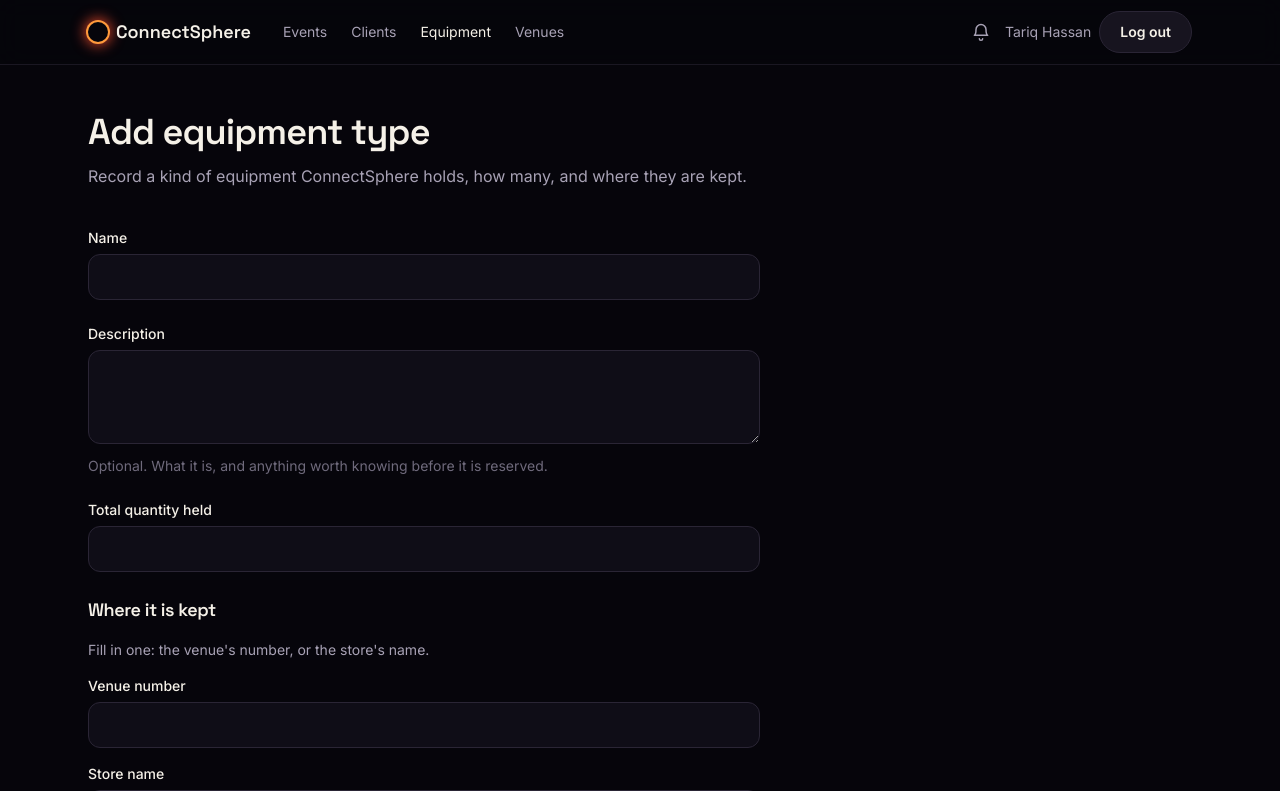
Test: SCRUM-27 adding an equipment type › shows the button as busy while the backend saves
In the field labelled "Name": (424, 277) top-left (88, 254), bottom-right (760, 300), type "Folding table"
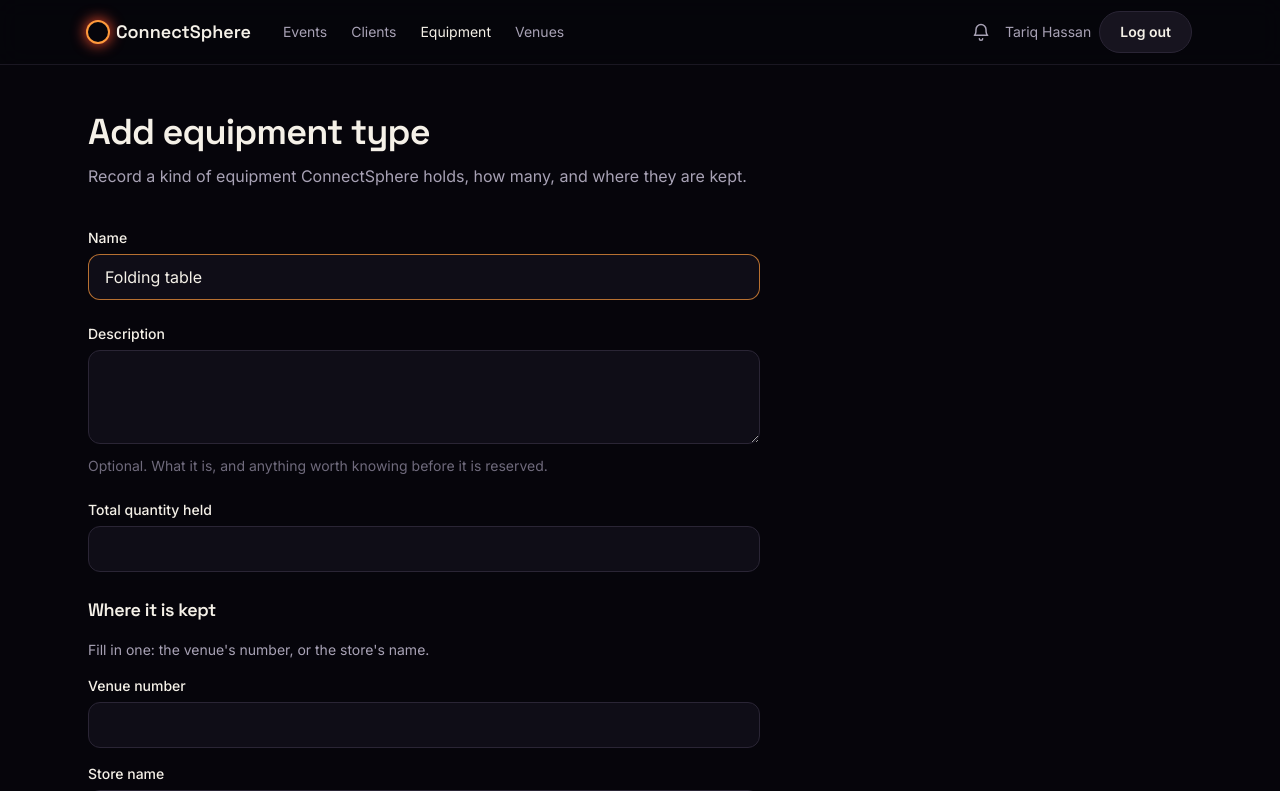
In the number field labelled "Total quantity held": (424, 549) top-left (88, 526), bottom-right (760, 572), type "2"
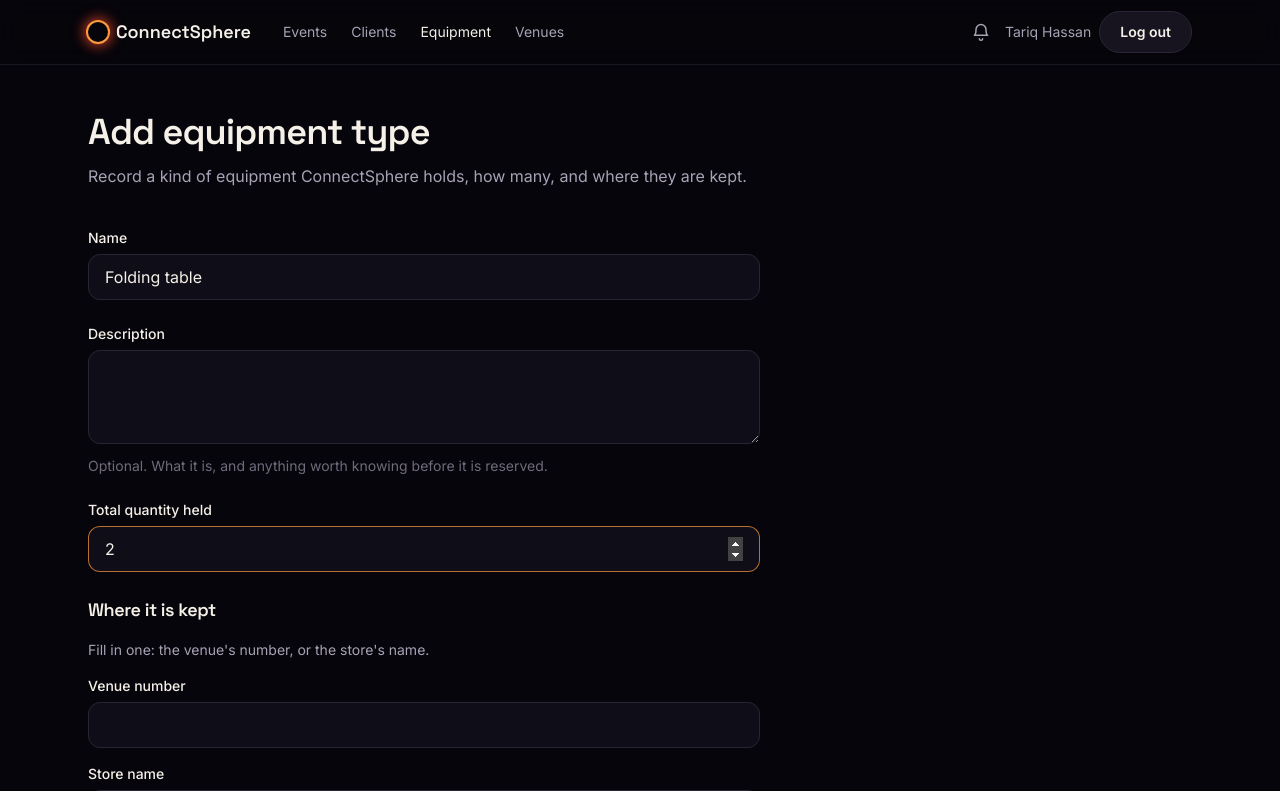
In the number field labelled "Venue number": (424, 725) top-left (88, 702), bottom-right (760, 748), type "1"
(page scrolled)
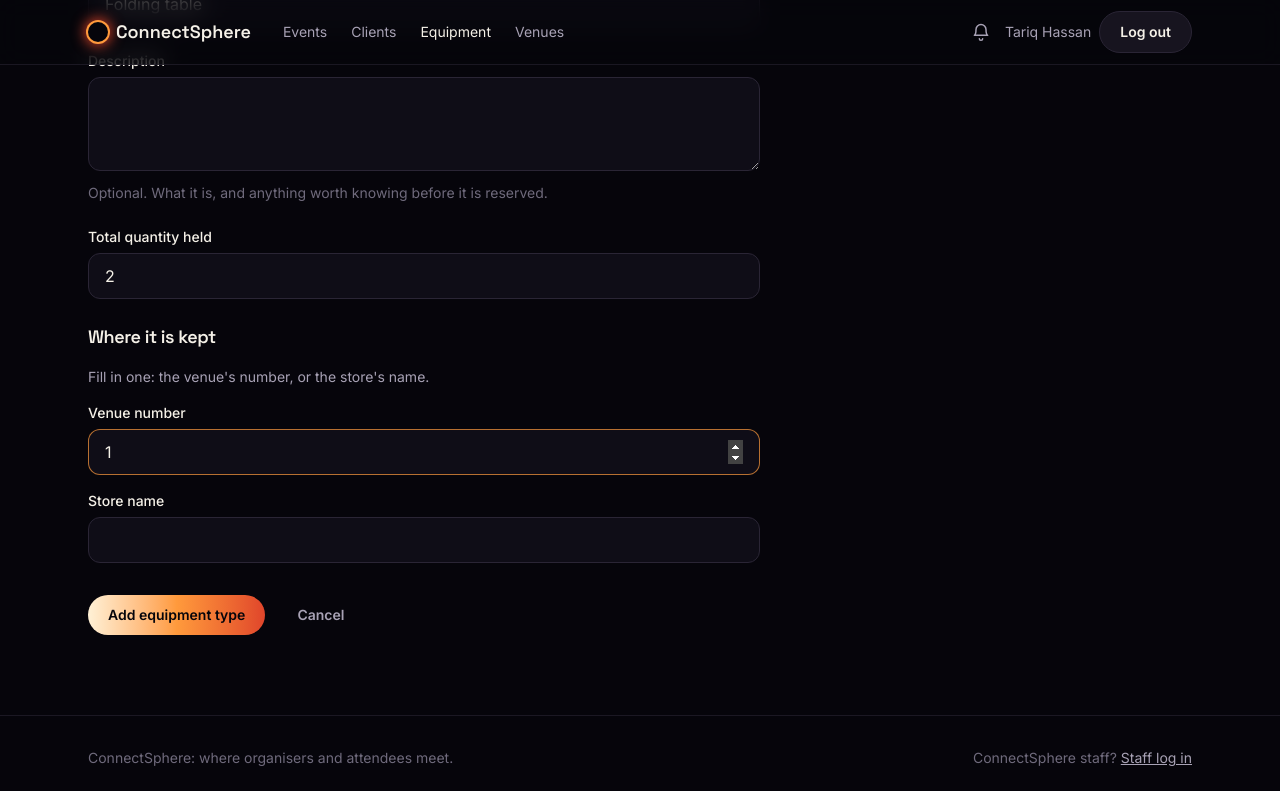
Click the button "Add equipment type": (177, 615) top-left (88, 595), bottom-right (265, 635)
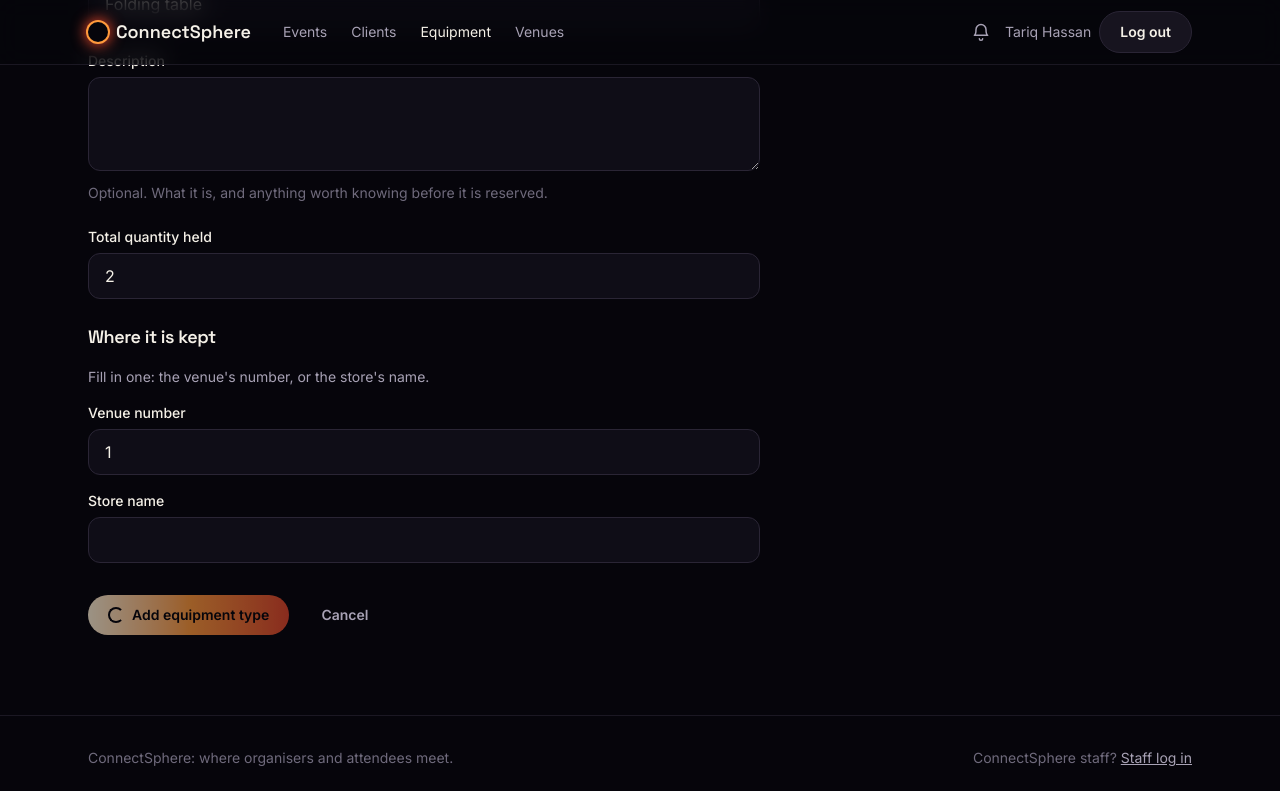
Expected: the button "Add equipment type" is disabled, top-left (88, 595), bottom-right (289, 635)
